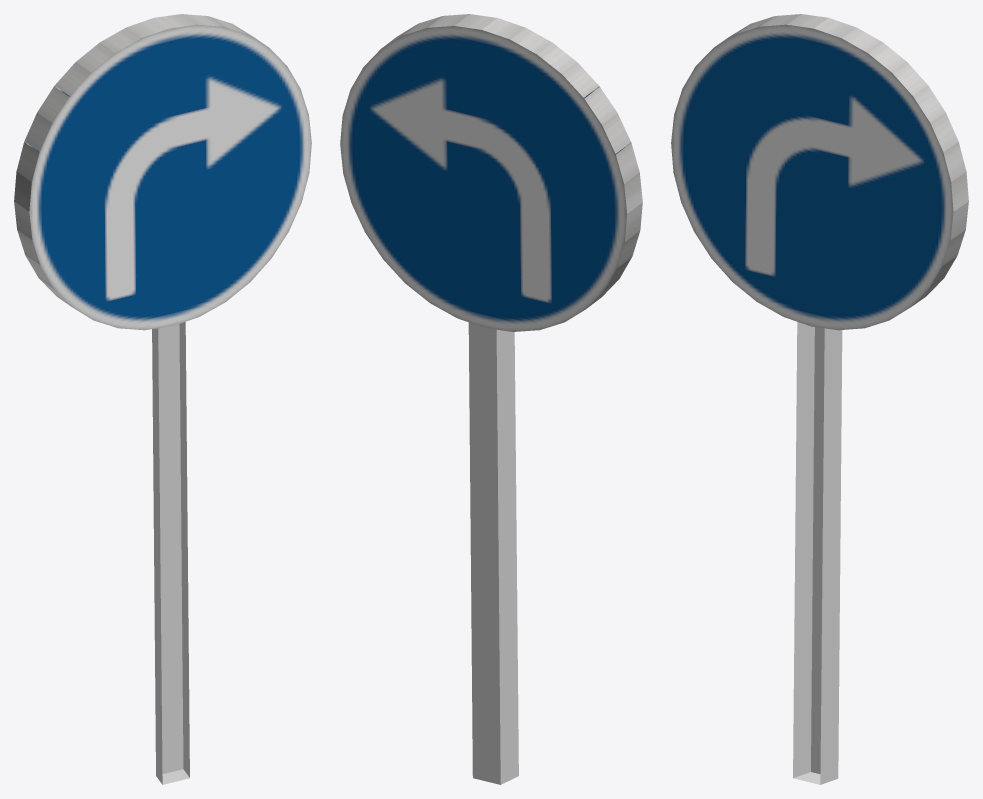
Rendered from right.dae.
The picture shows the model from 3 angles, left to right: view 1: azimuth 30°, elevation 25°; view 2: azimuth 150°, elevation 25°; view 3: azimuth 330°, elevation 25°; orthographic projection.
Visible parts, largest first — view 1: Cycle, Xui; view 2: Cycle, Xui; view 3: Cycle, Xui.
Boxes of the visible parts, x1,y1,x2,y2 form: Cycle: [14, 14, 311, 330]; Xui: [152, 322, 189, 784]; Cycle: [340, 14, 642, 331]; Xui: [468, 322, 518, 784]; Cycle: [671, 14, 968, 330]; Xui: [793, 322, 842, 784].
Size of the model in its own units: 0.2554 by 0.0352 by 0.6471.
Materials: 1 (1 with a texture image).
